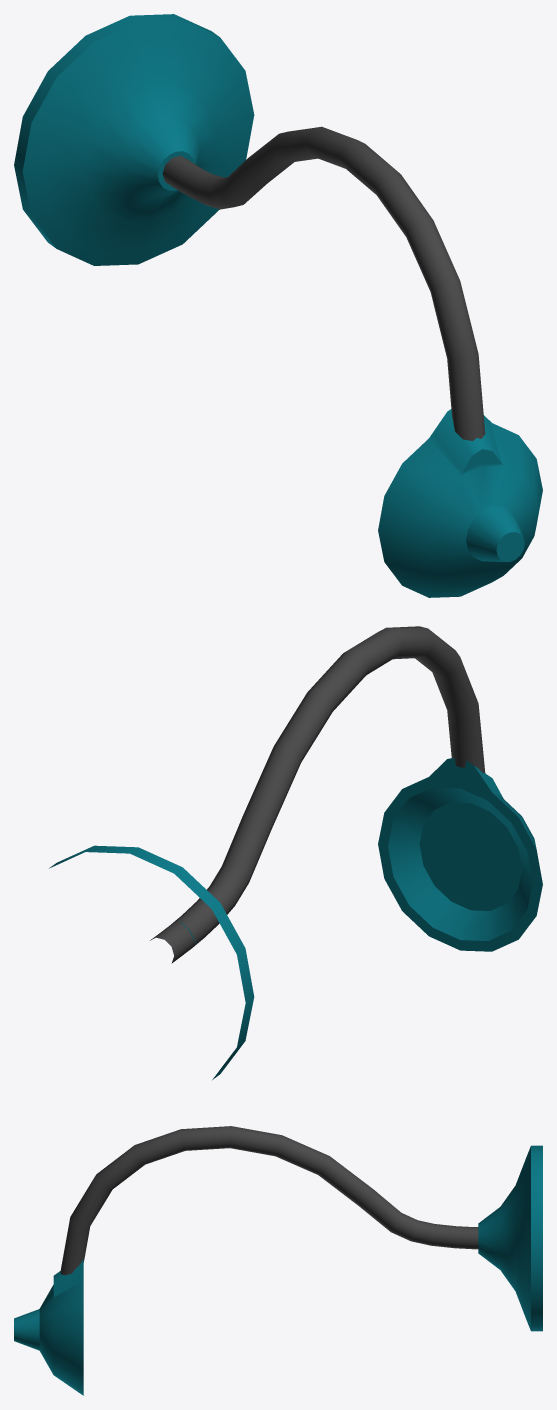
The model's file is floor_lamp.glb.
The picture shows the model from 3 angles, top to bottom: view 1: azimuth 30°, elevation 25°; view 2: azimuth 150°, elevation 25°; view 3: azimuth 270°, elevation 25°; orthographic projection. The views are drawn at different scales.
Visible parts, largest first — view 1: floor_lamp; view 2: floor_lamp; view 3: floor_lamp.
Part boxes in pixels (box(x1,y1,x2,y2)): floor_lamp: box(14, 14, 542, 597); floor_lamp: box(49, 626, 542, 1079); floor_lamp: box(14, 1126, 542, 1395).
Bounding box in the file's own units: 0.6662 × 1.04 × 1.9.
